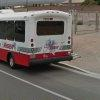buses: (0, 9, 77, 69)
